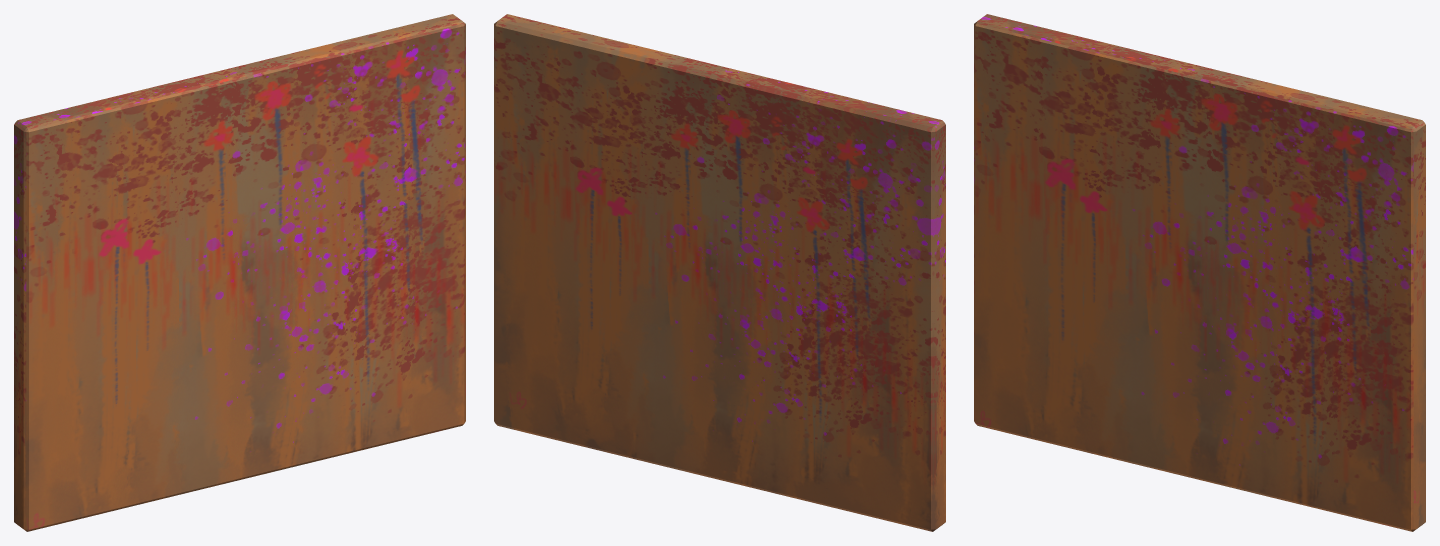
The model's file is Painting_Poppy.fbx.
3 views of the same model, side by side, from view 1: azimuth 30°, elevation 25°; view 2: azimuth 150°, elevation 25°; view 3: azimuth 330°, elevation 25° (orthographic).
Visible parts, largest first — view 1: Painting_Poppy; view 2: Painting_Poppy; view 3: Painting_Poppy.
Boxes of the visible parts, bbox=[...] form: Painting_Poppy: bbox=[14, 14, 465, 531]; Painting_Poppy: bbox=[494, 14, 945, 531]; Painting_Poppy: bbox=[974, 14, 1425, 531].
Bounding box in the file's own units: 72.01 × 62.99 × 3.82.
